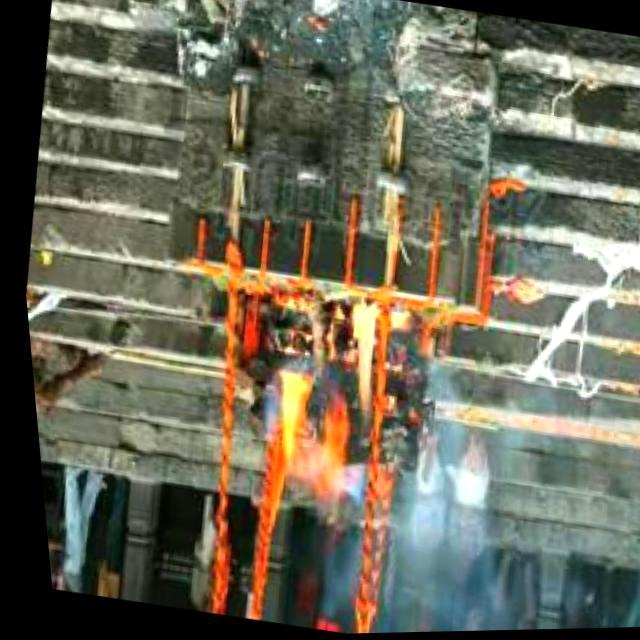fire: (247, 286, 393, 514)
